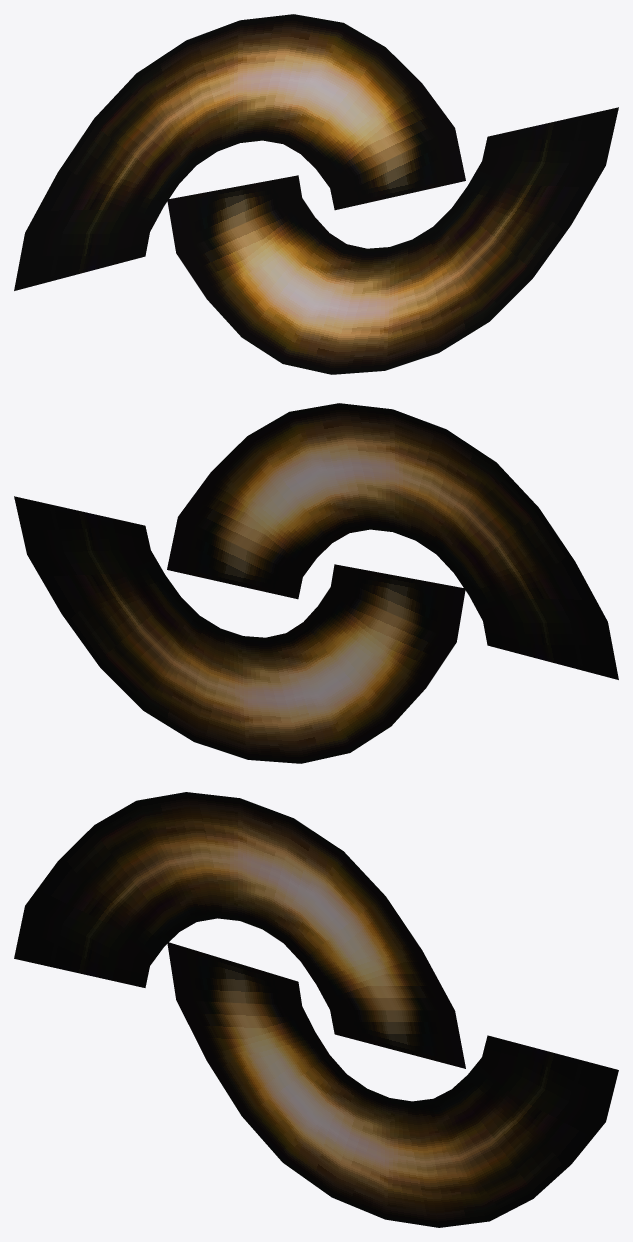
File: wind_spin03.glb
3 views of the same model, one above another, from view 1: azimuth 30°, elevation 25°; view 2: azimuth 150°, elevation 25°; view 3: azimuth 330°, elevation 25° (orthographic).
Visible parts, largest first — view 1: model_wind_spin03; view 2: model_wind_spin03; view 3: model_wind_spin03.
Boxes of the visible parts, box(x1,y1,x2,y2) form: model_wind_spin03: box(14, 14, 618, 374); model_wind_spin03: box(14, 403, 618, 763); model_wind_spin03: box(14, 792, 618, 1227).
Bounding box in the file's own units: 2.3 × 1.4 × 4.15e-14.
1 material, 1 textured.
